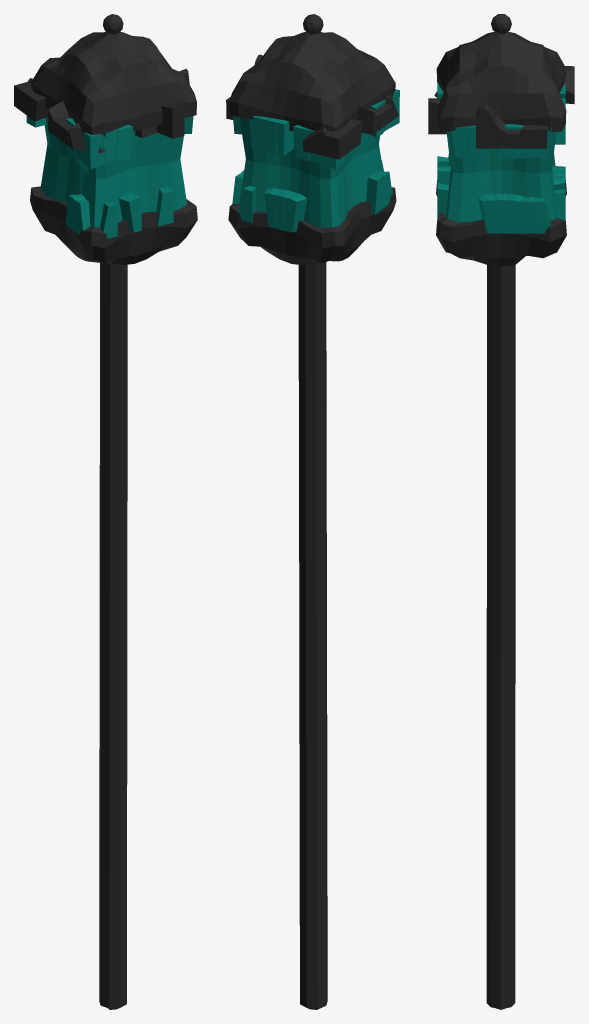
File: lamp post_broken.fbx
3 renders of one model, left to right at view 1: azimuth 30°, elevation 25°; view 2: azimuth 150°, elevation 25°; view 3: azimuth 270°, elevation 25°, orthographic.
Visible parts, largest first — view 1: Cube, Cube.009, Cube.001, Cube.009_cell.002, Cube.009_cell.015, Cube.001_cell.154, Cube.001_cell.098, Cube.001_cell.151, Cube.009_cell.044, Cube.001_cell.156, Cube.001_cell.169, Cube.009_cell.029 (+3 smaller); view 2: Cube, Cube.009, Cube.001, Cube.009_cell.002, Cube.001_cell.173, Cube.001_cell.130, Cube.009_cell.076, Cube.001_cell.188, Cube.001_cell.177, Cube.001_cell.190, Cube.009_cell.055, Cube.001_cell.175 (+2 smaller); view 3: Cube, Cube.009, Cube.001, Cube.009_cell.079, Cube.009_cell.059, Cube.009_cell.039, Cube.001_cell.112, Cube.001_cell.109, Cube.001_cell.110, Cube.009_cell.065, Cube.009_cell.004, Cube.001_cell.108 (+5 smaller).
Boxes of the visible parts, x1=… form: Cube: x1=30, y1=186, x2=197, y2=1009; Cube.009: x1=31, y1=14, x2=196, y2=136; Cube.001: x1=43, y1=117, x2=187, y2=227; Cube.009_cell.002: x1=14, y1=82, x2=48, y2=121; Cube.009_cell.015: x1=156, y1=100, x2=185, y2=138; Cube.001_cell.154: x1=119, y1=193, x2=141, y2=232; Cube.001_cell.098: x1=81, y1=132, x2=105, y2=169; Cube.001_cell.151: x1=156, y1=187, x2=173, y2=226; Cube.009_cell.044: x1=143, y1=68, x2=172, y2=102; Cube.001_cell.156: x1=100, y1=202, x2=117, y2=238; Cube.001_cell.169: x1=116, y1=124, x2=132, y2=160; Cube.009_cell.029: x1=116, y1=75, x2=145, y2=103; Cube: x1=228, y1=187, x2=396, y2=1009; Cube.009: x1=229, y1=14, x2=395, y2=131; Cube.001: x1=239, y1=117, x2=382, y2=227; Cube.009_cell.002: x1=326, y1=119, x2=362, y2=159; Cube.001_cell.173: x1=284, y1=192, x2=307, y2=232; Cube.001_cell.130: x1=366, y1=174, x2=383, y2=214; Cube.009_cell.076: x1=302, y1=127, x2=330, y2=157; Cube.001_cell.188: x1=276, y1=119, x2=293, y2=155; Cube.001_cell.177: x1=237, y1=186, x2=256, y2=222; Cube.001_cell.190: x1=251, y1=116, x2=269, y2=150; Cube.009_cell.055: x1=251, y1=63, x2=301, y2=101; Cube.001_cell.175: x1=264, y1=188, x2=282, y2=228; Cube: x1=436, y1=180, x2=566, y2=1009; Cube.009: x1=436, y1=14, x2=566, y2=131; Cube.001: x1=446, y1=132, x2=556, y2=222; Cube.009_cell.079: x1=476, y1=104, x2=496, y2=148; Cube.009_cell.059: x1=438, y1=71, x2=480, y2=108; Cube.009_cell.039: x1=519, y1=124, x2=547, y2=148; Cube.001_cell.112: x1=478, y1=194, x2=496, y2=233; Cube.001_cell.109: x1=515, y1=197, x2=535, y2=233; Cube.001_cell.110: x1=506, y1=194, x2=524, y2=233; Cube.009_cell.065: x1=465, y1=67, x2=490, y2=100; Cube.009_cell.004: x1=488, y1=81, x2=537, y2=106; Cube.001_cell.108: x1=534, y1=198, x2=551, y2=233.
Size of the model in its own units: 87.38 by 654 by 87.36.
